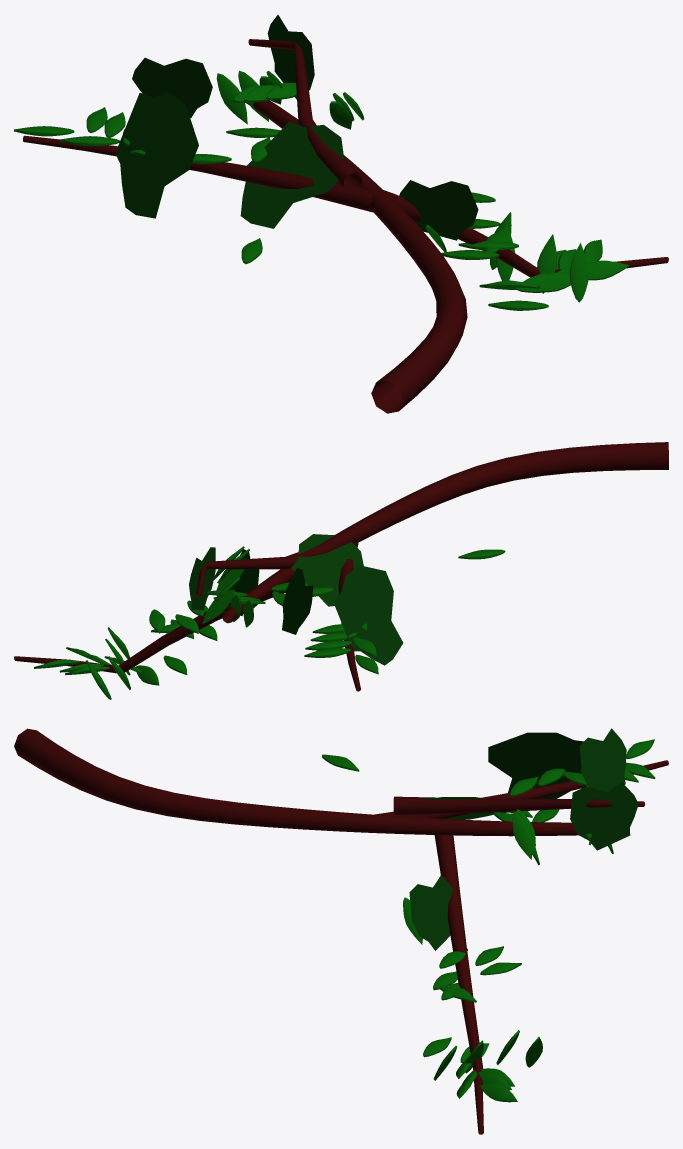
The model's file is TREE1 SMALLER ONE REAL.glb.
The picture shows the model from 3 angles, top to bottom: view 1: azimuth 30°, elevation 25°; view 2: azimuth 150°, elevation 25°; view 3: azimuth 270°, elevation 25°; orthographic projection. The views are drawn at different scales.
Parts seen in each view (by area): view 1: pCube103; view 2: pCube103; view 3: pCube103.
Part boxes in pixels (bbox=[...]): pCube103: bbox=[14, 14, 668, 413]; pCube103: bbox=[14, 442, 668, 699]; pCube103: bbox=[14, 728, 668, 1134].
Bounding box in the file's own units: 0.1738 × 0.0789 × 0.2079.
